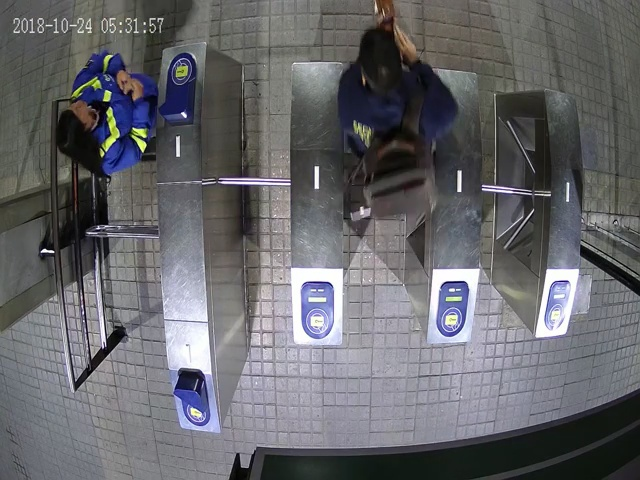Chaleco_azul: (57, 50, 159, 175)
